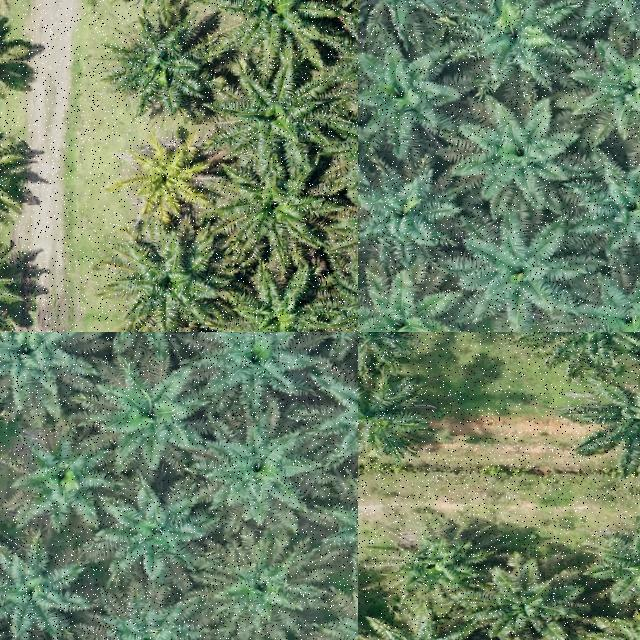Ganoderma: (131, 148, 198, 205)
